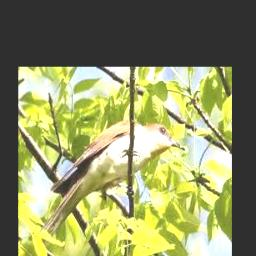Cuckoo: (37, 121, 185, 250)
